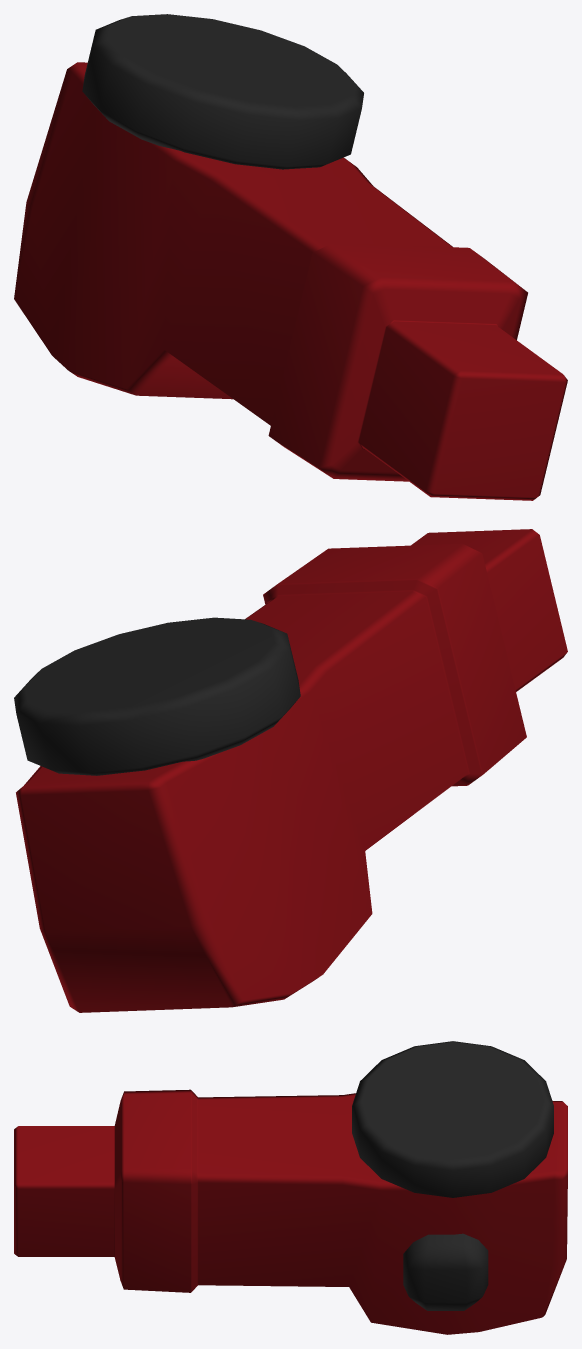
The model's file is Ship_enemy_08_Weapon_L.fbx.
The picture shows the model from 3 angles, top to bottom: view 1: azimuth 30°, elevation 25°; view 2: azimuth 150°, elevation 25°; view 3: azimuth 270°, elevation 25°; orthographic projection. The views are drawn at different scales.
Visible parts, largest first — view 1: Ship_enemy_08_Weapon_L; view 2: Ship_enemy_08_Weapon_L; view 3: Ship_enemy_08_Weapon_L.
Boxes of the visible parts, left/top/right/bottom form: Ship_enemy_08_Weapon_L: left=14, top=14, right=567, bottom=500; Ship_enemy_08_Weapon_L: left=14, top=529, right=567, bottom=1012; Ship_enemy_08_Weapon_L: left=14, top=1041, right=567, bottom=1334.
Size of the model in its own units: 81.47 by 96.57 by 193.
